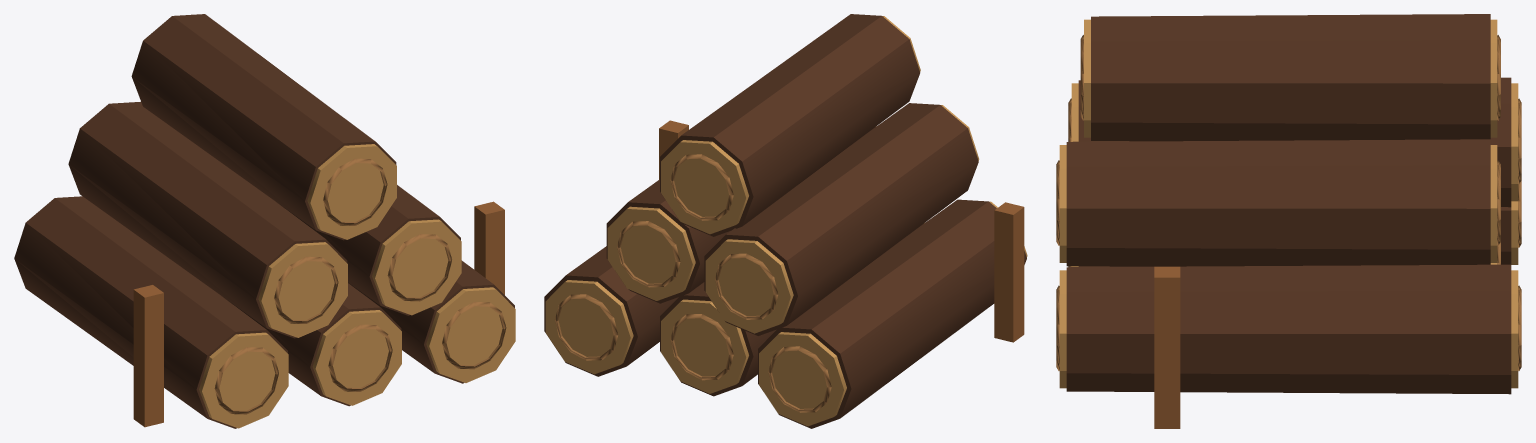
Rendered from 18_log_stack.fbx.
3 renders of one model, left to right at view 1: azimuth 30°, elevation 25°; view 2: azimuth 150°, elevation 25°; view 3: azimuth 270°, elevation 25°, orthographic. The views are drawn at different scales.
Parts seen in each view (by area): view 1: 18_log_stack; view 2: 18_log_stack; view 3: 18_log_stack.
Part boxes in pixels (<box>): 18_log_stack: <box>14,14,515,428</box>; 18_log_stack: <box>544,14,1027,428</box>; 18_log_stack: <box>1056,14,1521,428</box>.
Size of the model in its own units: 1.4 by 0.9771 by 1.34.
Materials: 1 (1 with a texture image).
